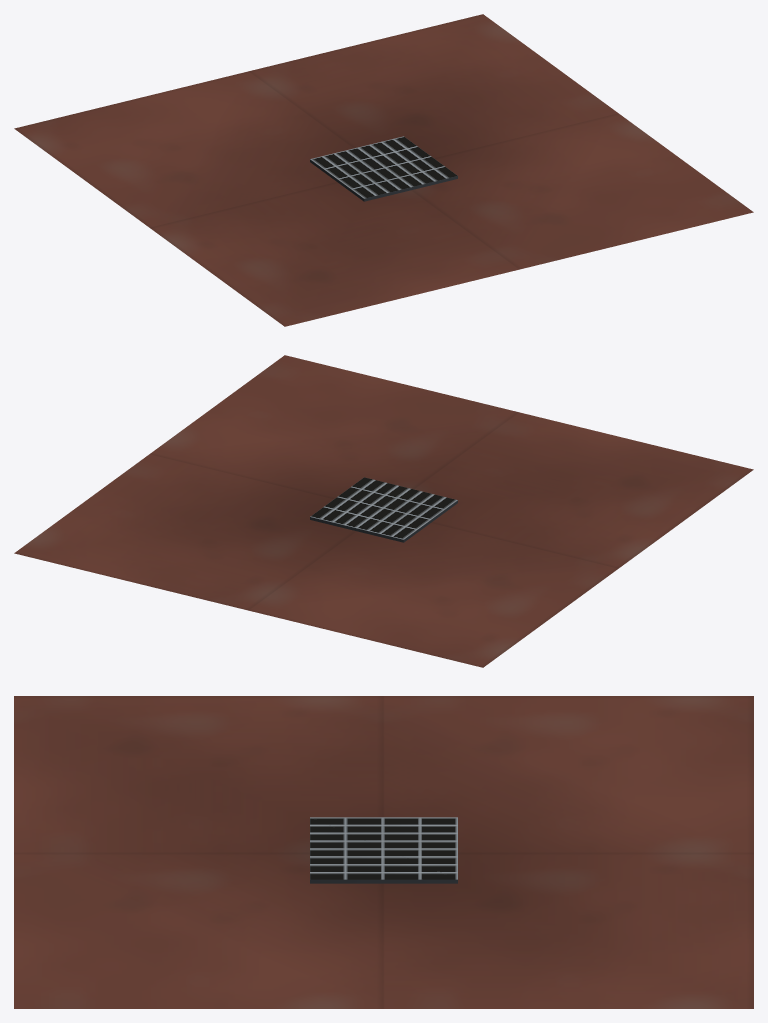
Rendered from floor_bunker_drain.glb.
3 views of the same model, one above another, from view 1: azimuth 30°, elevation 25°; view 2: azimuth 150°, elevation 25°; view 3: azimuth 270°, elevation 25° (orthographic). The views are drawn at different scales.
Visible parts, largest first — view 1: floor_bunker_drain; view 2: floor_bunker_drain; view 3: floor_bunker_drain.
Boxes of the visible parts, bbox=[...] form: floor_bunker_drain: bbox=[14, 14, 753, 326]; floor_bunker_drain: bbox=[14, 355, 753, 667]; floor_bunker_drain: bbox=[14, 696, 753, 1008].
Bounding box in the file's own units: 2 × 0.012 × 2.
1 material, 1 textured.
